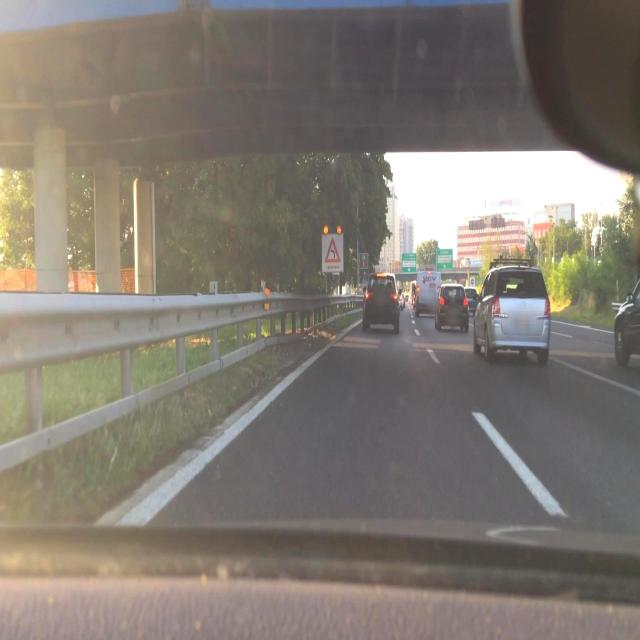car: (473, 262, 551, 366), (613, 260, 640, 376), (362, 272, 400, 334), (435, 282, 469, 333), (413, 269, 440, 318), (463, 286, 480, 316), (397, 290, 405, 310)
